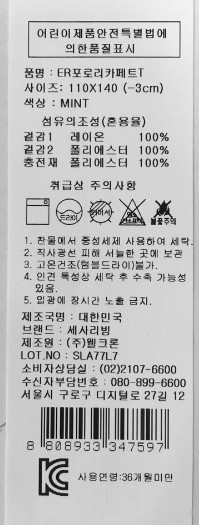KR_dry_clean: (56, 197, 84, 227)
KR_flat_dry_in_shade: (87, 198, 116, 225)
KR_no_bleach: (119, 197, 148, 228)
